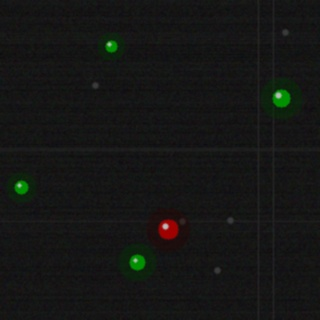green_normal: (270, 87, 292, 109), (127, 252, 147, 272), (12, 178, 30, 196), (103, 38, 119, 54)
red_fault: (156, 217, 180, 241)
